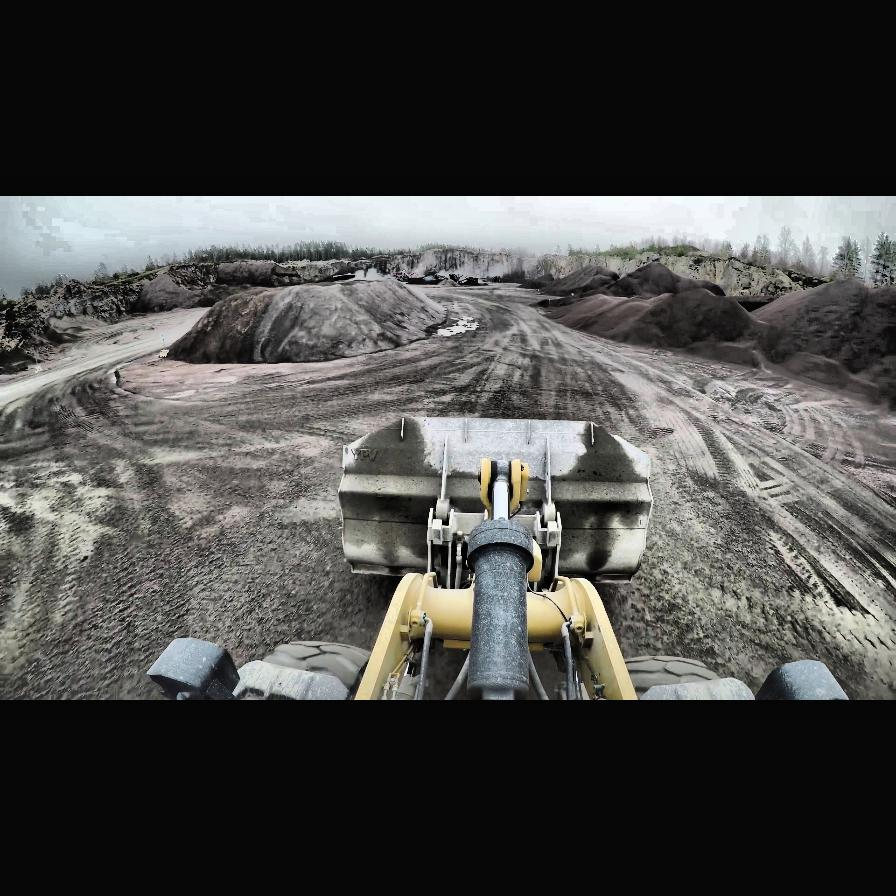anchor: (478, 456, 530, 518)
pile of gravel: (544, 262, 888, 412), (160, 276, 448, 368), (552, 286, 754, 356), (594, 260, 722, 300), (542, 292, 646, 338), (135, 266, 220, 312), (556, 250, 668, 284), (209, 260, 303, 290), (535, 263, 617, 297), (540, 296, 580, 308), (516, 275, 550, 289)
